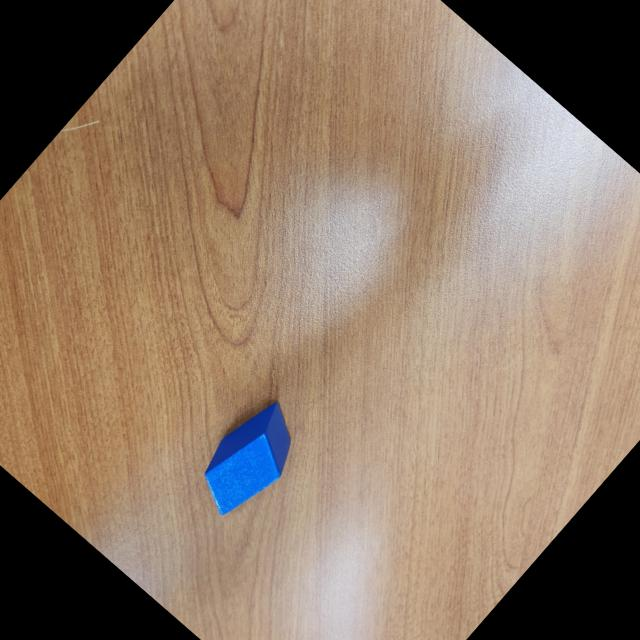blue: (182, 388, 316, 528)
